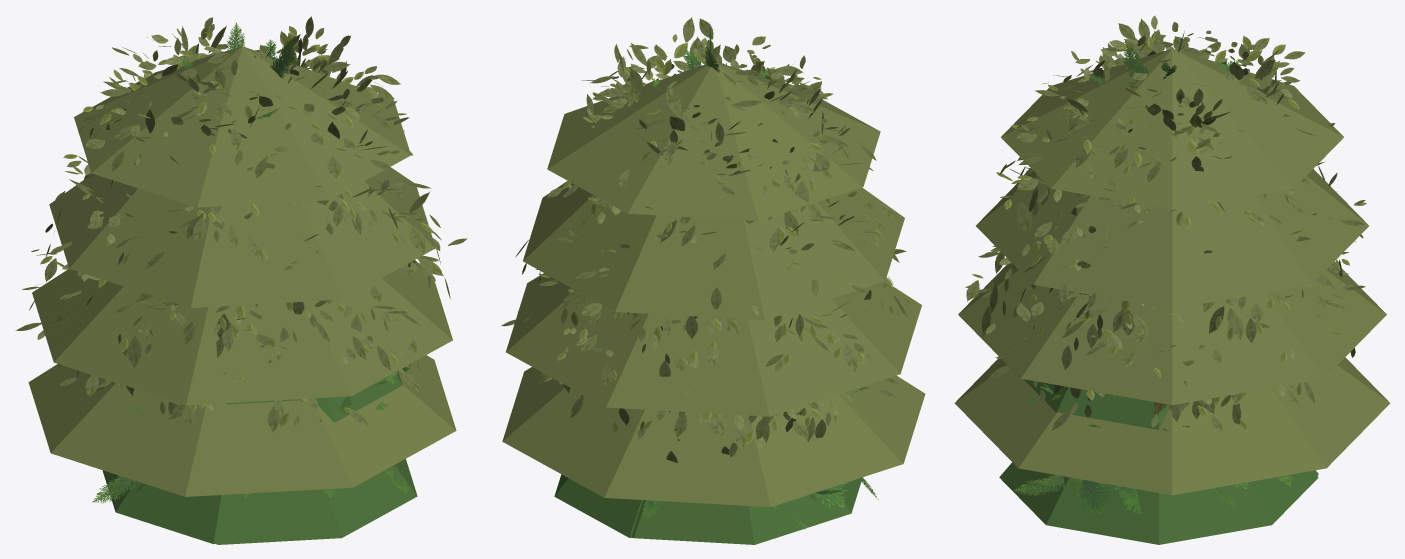
The model's file is trees.glb.
3 views of the same model, side by side, from view 1: azimuth 30°, elevation 25°; view 2: azimuth 150°, elevation 25°; view 3: azimuth 270°, elevation 25° (orthographic).
Parts seen in each view (by area): view 1: zelkova_far, zelkova_mid, zelkova_near, fir_far, cedar_far, cedar_mid, fir_mid; view 2: zelkova_far, zelkova_mid, zelkova_near, fir_far, cedar_far, fir_mid, cedar_mid; view 3: zelkova_far, cedar_far, zelkova_near, zelkova_mid, cedar_mid, cedar_near.
Boxes of the visible parts, box(x1,y1,x2,y2) form: zelkova_far: box(28, 46, 456, 496); zelkova_mid: box(15, 16, 467, 432); zelkova_near: box(27, 17, 457, 427); fir_far: box(102, 55, 335, 544); cedar_far: box(216, 58, 417, 544); cedar_mid: box(92, 38, 433, 503); fir_mid: box(109, 22, 388, 493); zelkova_far: box(502, 62, 925, 506); zelkova_mid: box(501, 17, 906, 462); zelkova_near: box(510, 27, 912, 457); fir_far: box(631, 478, 861, 544); cedar_far: box(554, 474, 642, 537); fir_mid: box(642, 47, 848, 529); cedar_mid: box(701, 22, 878, 507); zelkova_far: box(954, 48, 1390, 495); cedar_far: box(999, 63, 1318, 544); zelkova_near: box(965, 15, 1366, 429); zelkova_mid: box(966, 18, 1372, 430); cedar_mid: box(1013, 44, 1292, 515); cedar_near: box(1039, 59, 1222, 501).
Size of the model in its own units: 0.9828 by 1.18 by 0.9788.
8 materials, 4 textured.
